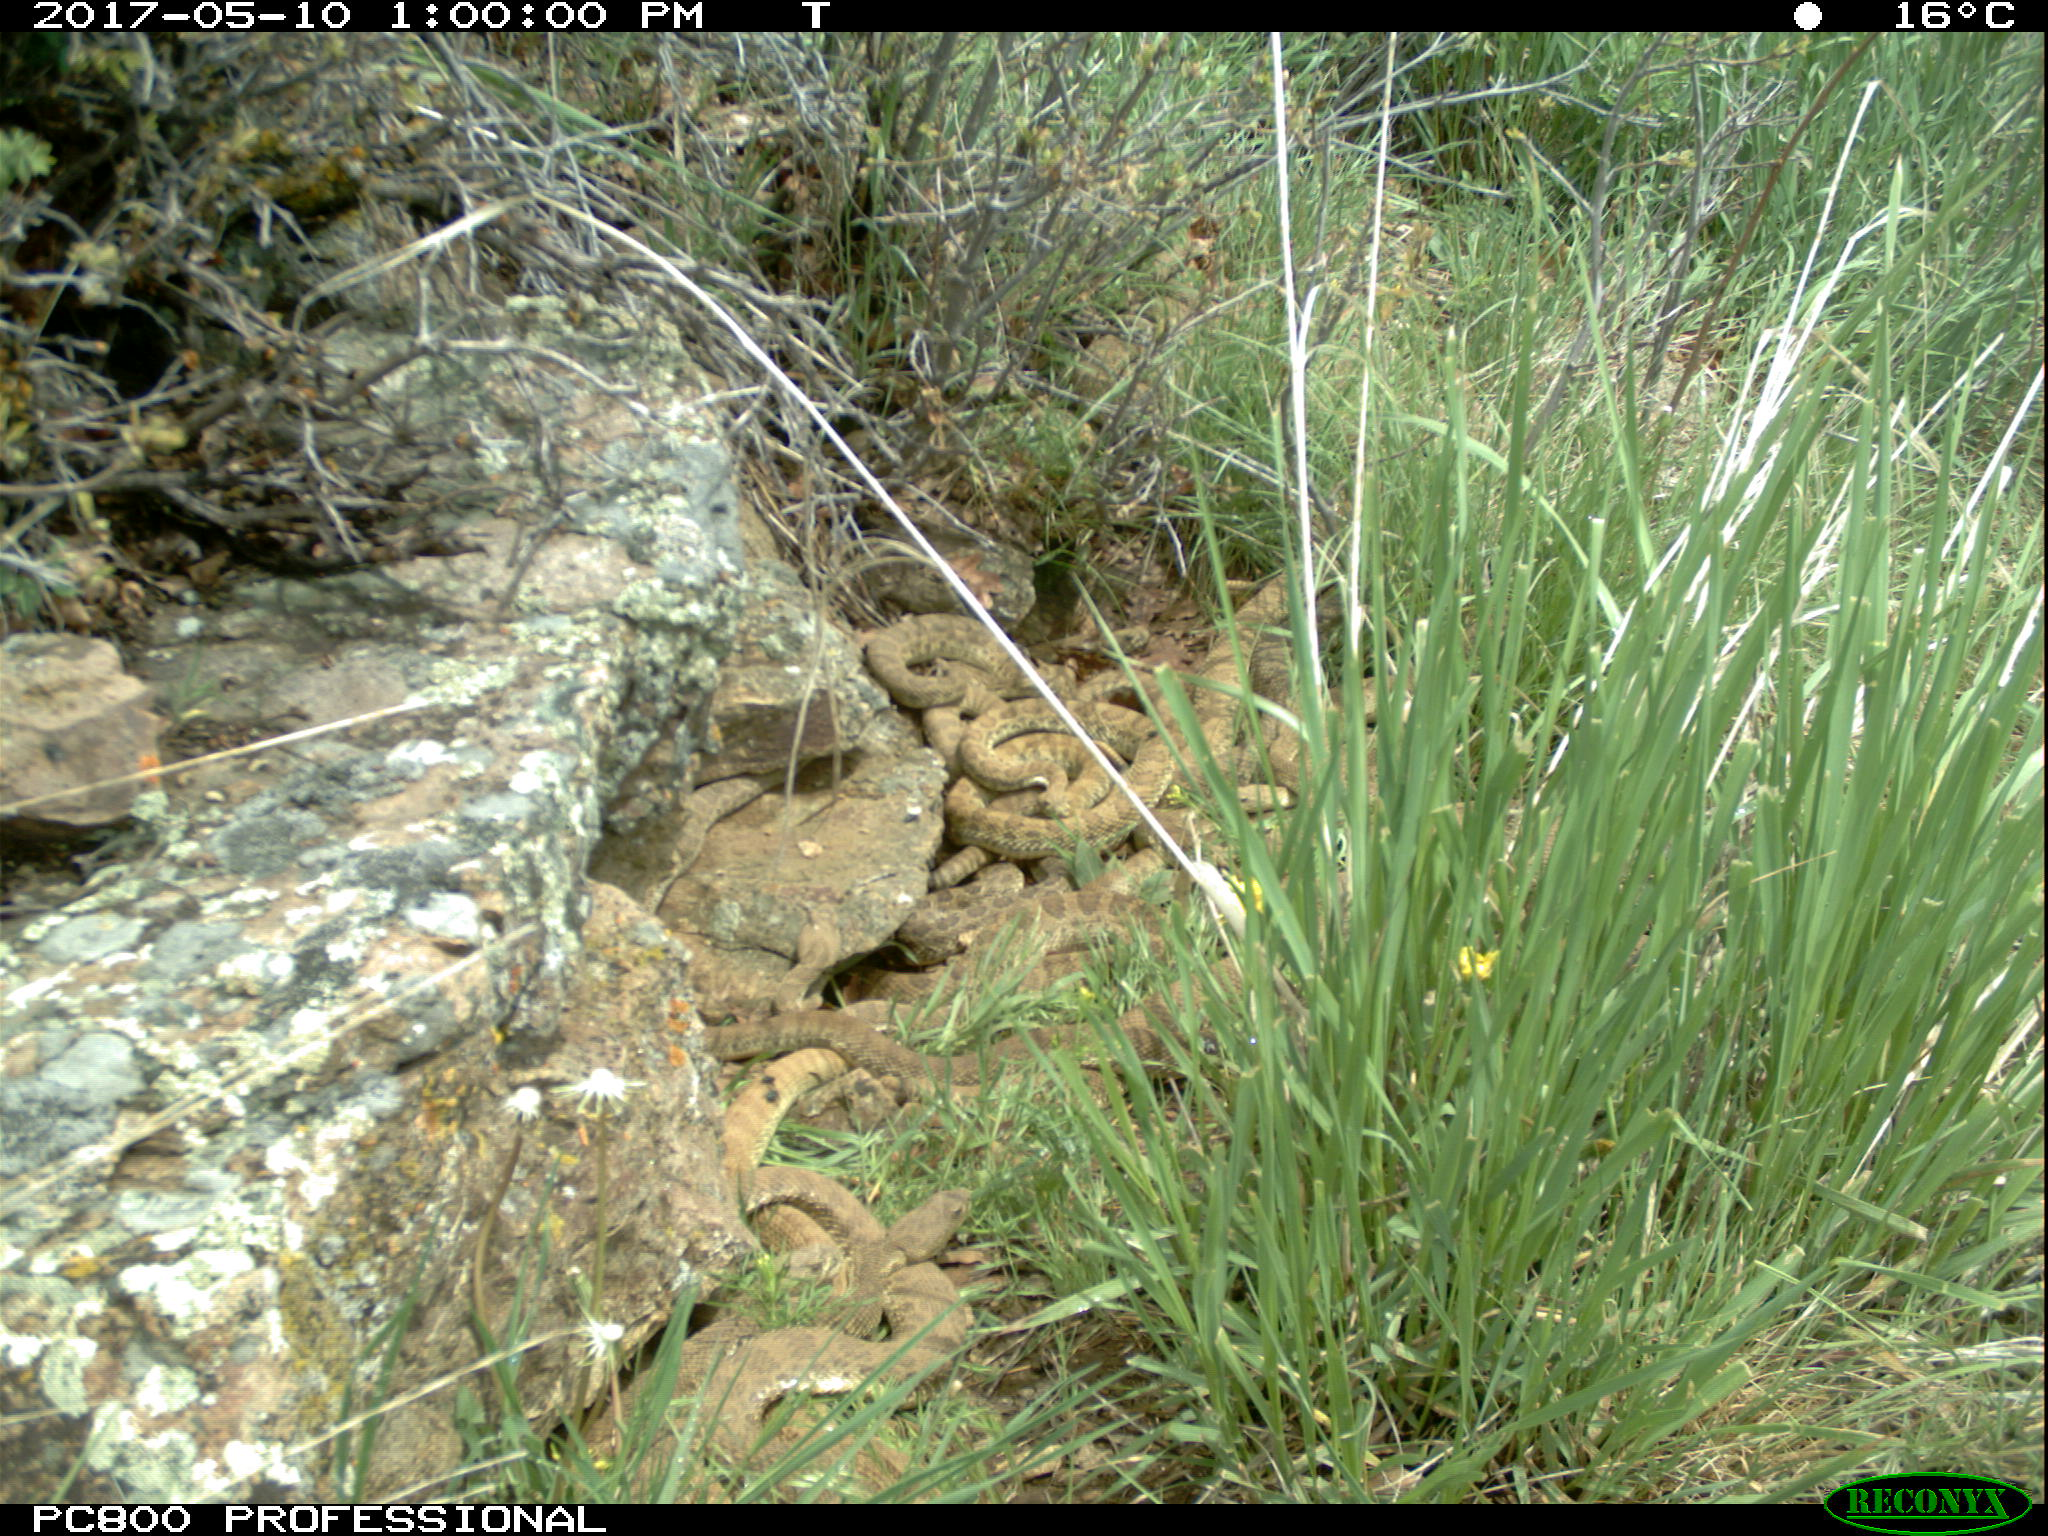snake: (705, 902, 1272, 1068), (632, 1318, 932, 1502), (713, 1044, 895, 1333), (1171, 552, 1348, 812), (935, 703, 1174, 868), (808, 1184, 980, 1394), (905, 842, 1219, 952), (864, 611, 1056, 708)
